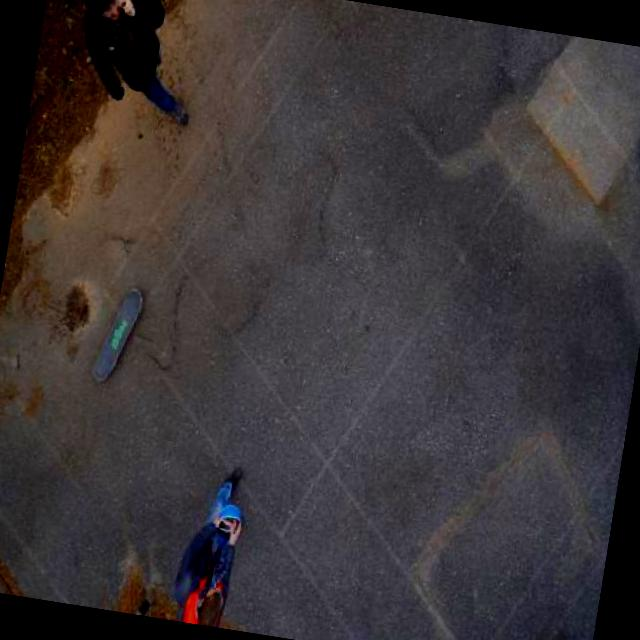Person: (60, 0, 225, 139), (165, 454, 261, 630)
